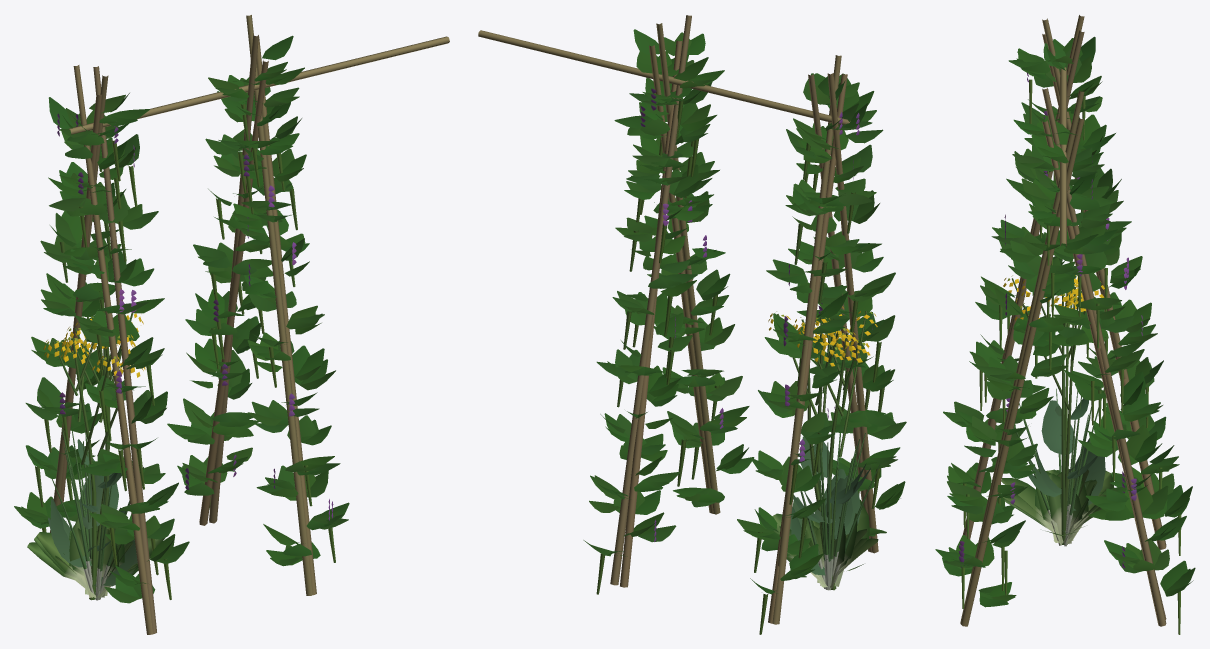
Rendered from crops.glb.
The picture shows the model from 3 angles, left to right: view 1: azimuth 30°, elevation 25°; view 2: azimuth 150°, elevation 25°; view 3: azimuth 270°, elevation 25°; orthographic projection.
Parts seen in each view (by area): view 1: doujia_0, doujia_1, youcai_1, youcai_2, cong_1, qingcai_2, youcai_0, cong_0, qingcai_0, qingcai_1; view 2: doujia_0, doujia_1, youcai_1, youcai_2, youcai_0, cong_1, cong_0, qingcai_2, qingcai_1; view 3: doujia_0, doujia_1, youcai_0, youcai_2, qingcai_2, youcai_1, qingcai_0, cong_1, qingcai_1, cong_0.
Boxes of the visible parts, bbox=[...] form: doujia_0: bbox=[14, 15, 449, 634]; doujia_1: bbox=[21, 37, 349, 634]; youcai_1: bbox=[43, 316, 136, 599]; youcai_2: bbox=[48, 312, 145, 600]; cong_1: bbox=[64, 441, 143, 600]; qingcai_2: bbox=[36, 518, 165, 598]; youcai_0: bbox=[50, 327, 137, 599]; cong_0: bbox=[52, 429, 94, 594]; qingcai_0: bbox=[27, 525, 137, 597]; qingcai_1: bbox=[34, 527, 151, 597]; doujia_0: bbox=[478, 15, 905, 623]; doujia_1: bbox=[594, 40, 906, 634]; youcai_1: bbox=[790, 311, 877, 589]; youcai_2: bbox=[768, 311, 870, 590]; youcai_0: bbox=[793, 306, 866, 558]; cong_1: bbox=[800, 416, 865, 590]; cong_0: bbox=[818, 443, 880, 590]; qingcai_2: bbox=[772, 499, 869, 587]; qingcai_1: bbox=[786, 517, 878, 587]; doujia_0: bbox=[944, 30, 1195, 634]; doujia_1: bbox=[935, 15, 1192, 626]; youcai_0: bbox=[1021, 278, 1105, 544]; youcai_2: bbox=[1014, 287, 1094, 530]; qingcai_2: bbox=[1001, 469, 1112, 544]; youcai_1: bbox=[1003, 275, 1104, 489]; qingcai_0: bbox=[1003, 469, 1114, 544]; cong_1: bbox=[1005, 372, 1089, 546]; qingcai_1: bbox=[1004, 469, 1113, 544]; cong_0: bbox=[1056, 388, 1103, 544].
Size of the model in its own units: 1.48 by 1.92 by 0.8408.
